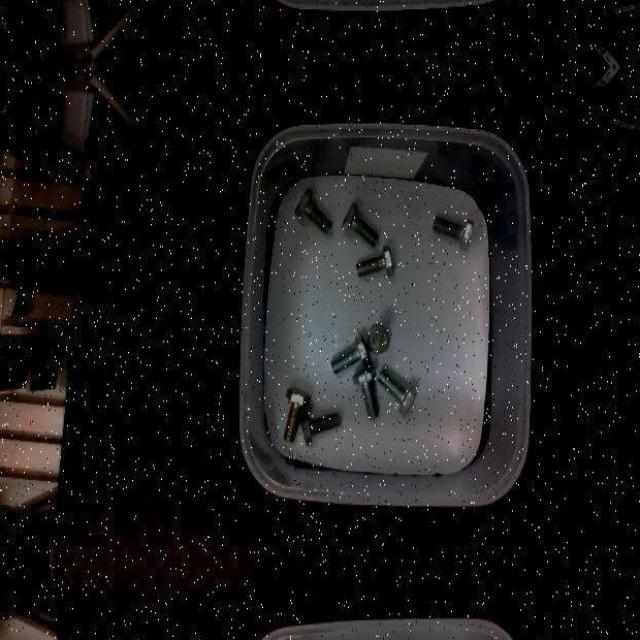screw: (378, 368, 418, 416), (343, 201, 379, 247), (296, 188, 332, 233), (330, 334, 371, 373), (432, 215, 474, 250), (352, 367, 379, 420), (285, 386, 311, 441), (299, 411, 341, 445), (355, 246, 394, 277), (368, 324, 391, 356)
